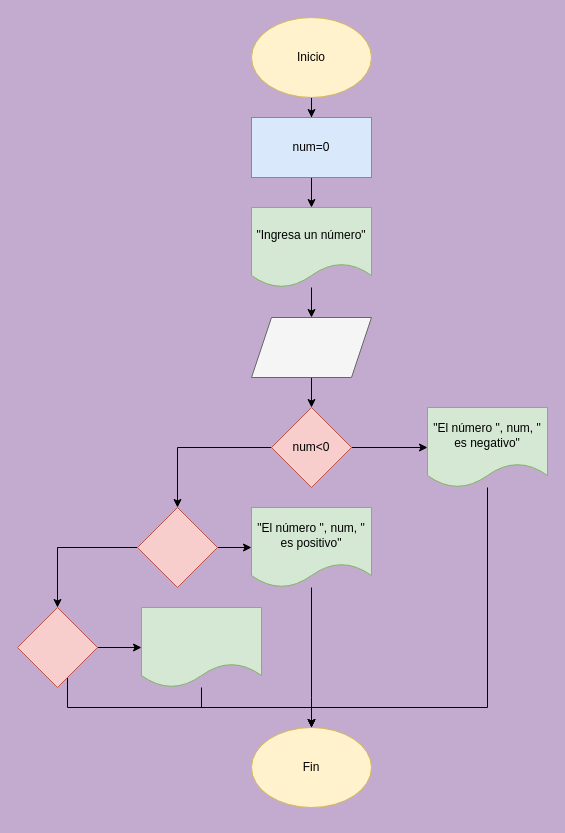
Image size: 565x833. Some labels were removed from this diagram. Each missing label, with the box of its shape:
"El número ", num, " es neutro": (140, 606, 262, 688)
num: (250, 316, 372, 378)
num==0: (16, 606, 98, 688)
num>0: (136, 506, 218, 588)
